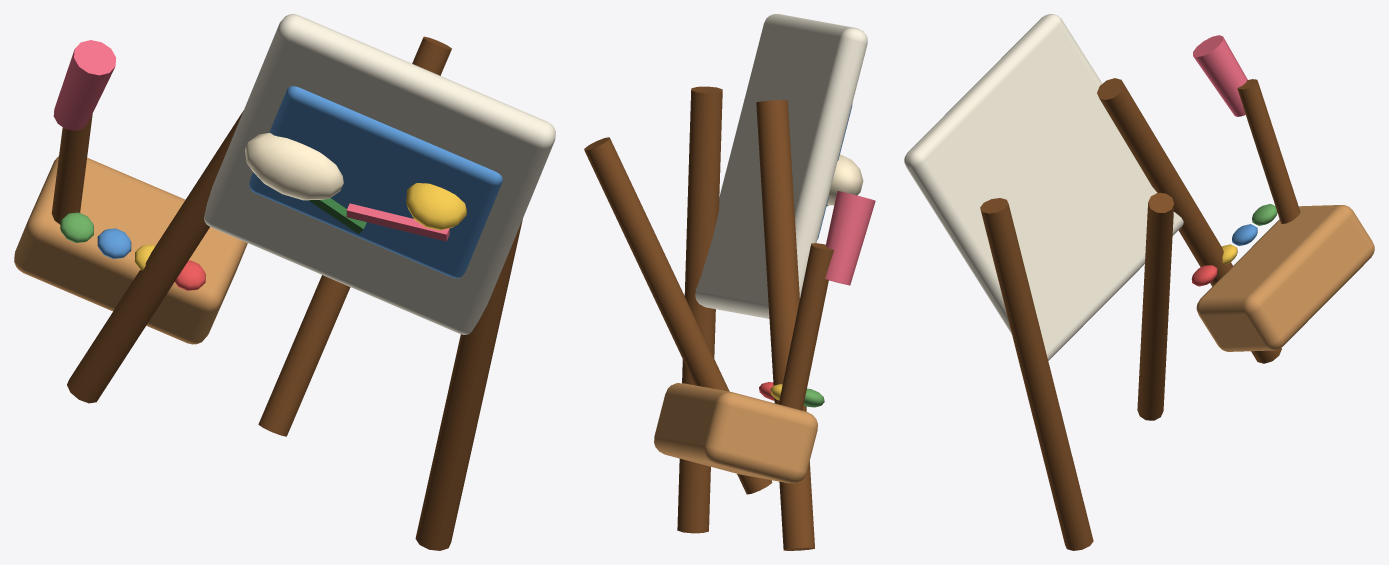
The model's file is easel.glb.
3 views of the same model, side by side, from view 1: azimuth 30°, elevation 25°; view 2: azimuth 150°, elevation 25°; view 3: azimuth 270°, elevation 25° (orthographic). The views are drawn at different scales.
Bounding box in the file's own units: 1.2 × 1.93 × 1.76.
